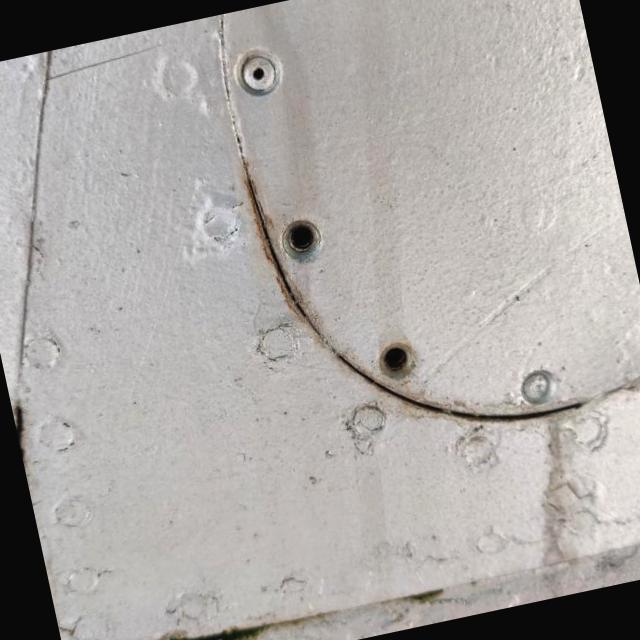Missing Fastener: (277, 215, 324, 262), (374, 338, 418, 384)
